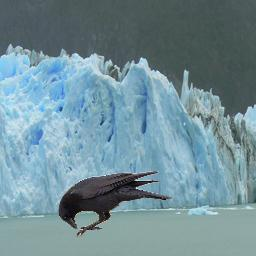Crow: (58, 171, 173, 238)
